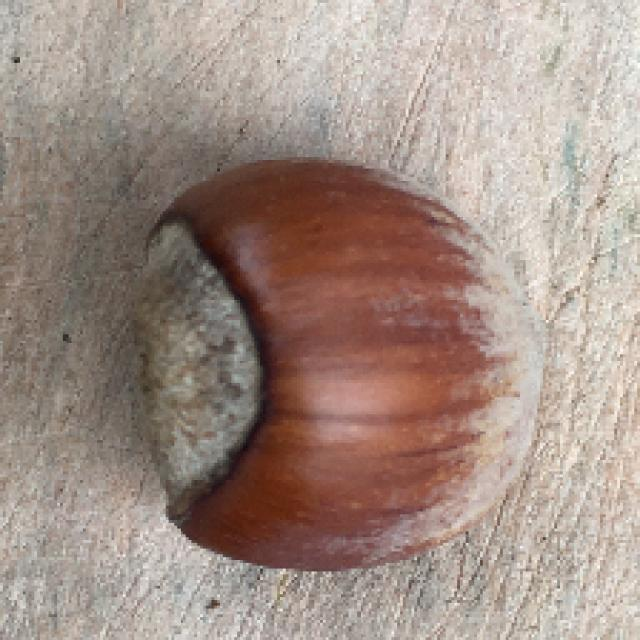qualityHazelnut: (139, 152, 544, 579)
